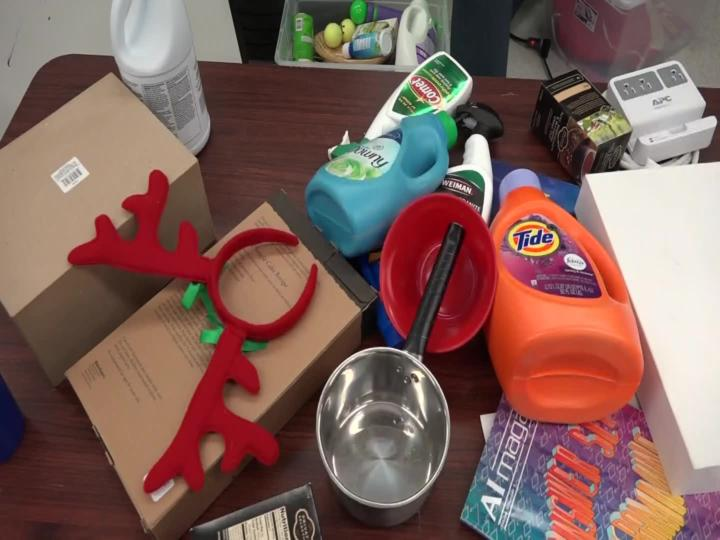tide: (464, 150, 656, 434)
